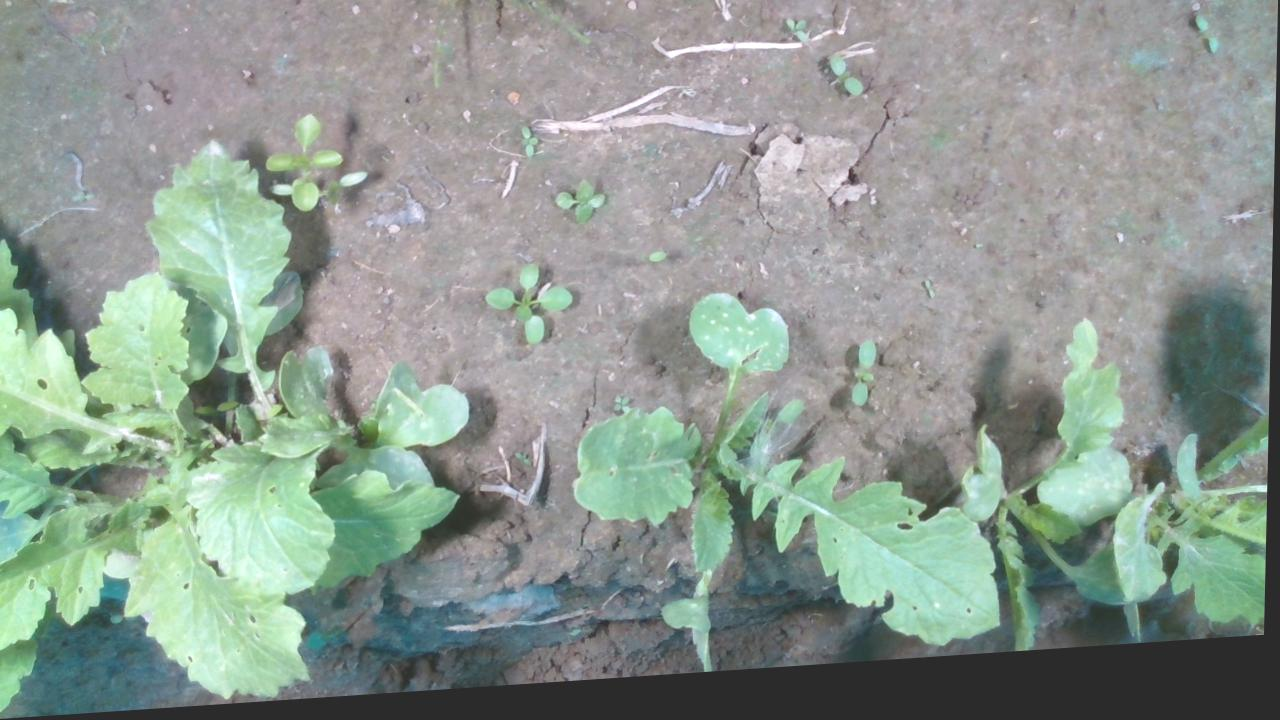weed: (553, 183, 607, 235), (825, 63, 866, 111), (852, 349, 878, 419), (1192, 25, 1220, 74), (782, 25, 809, 56), (519, 131, 539, 167), (924, 290, 938, 314)
